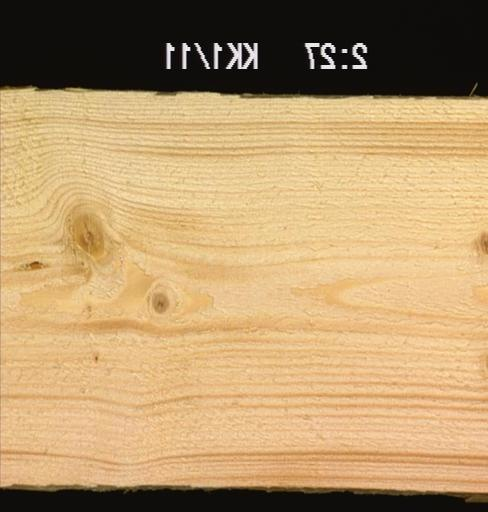sound_knot: (65, 209, 109, 256), (147, 283, 172, 317), (473, 226, 486, 255)
